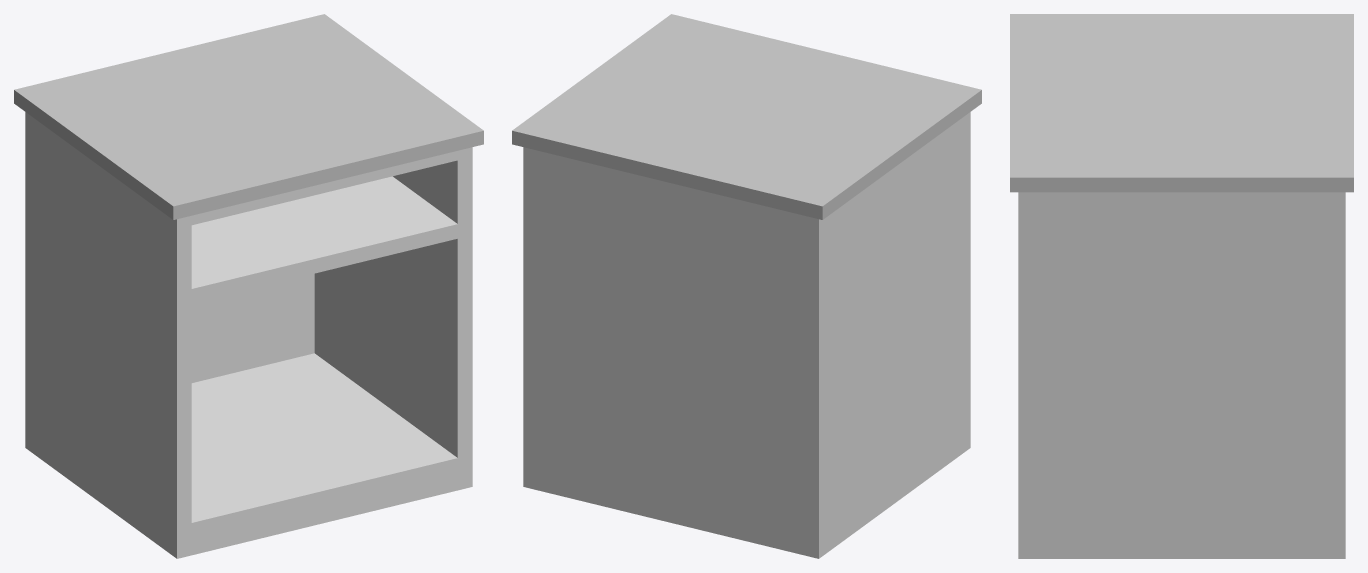
The model's file is BedTable2_C3.fbx.
3 renders of one model, left to right at view 1: azimuth 30°, elevation 25°; view 2: azimuth 150°, elevation 25°; view 3: azimuth 270°, elevation 25°, orthographic. The views are drawn at different scales.
Visible parts, largest first — view 1: BedTable2_C3; view 2: BedTable2_C3; view 3: BedTable2_C3.
Part boxes in pixels (box(x1,y1,x2,y2)): BedTable2_C3: box(14, 14, 483, 558); BedTable2_C3: box(512, 14, 981, 558); BedTable2_C3: box(1010, 14, 1353, 558).
Bounding box in the file's own units: 47.31 × 52 × 42.05.
